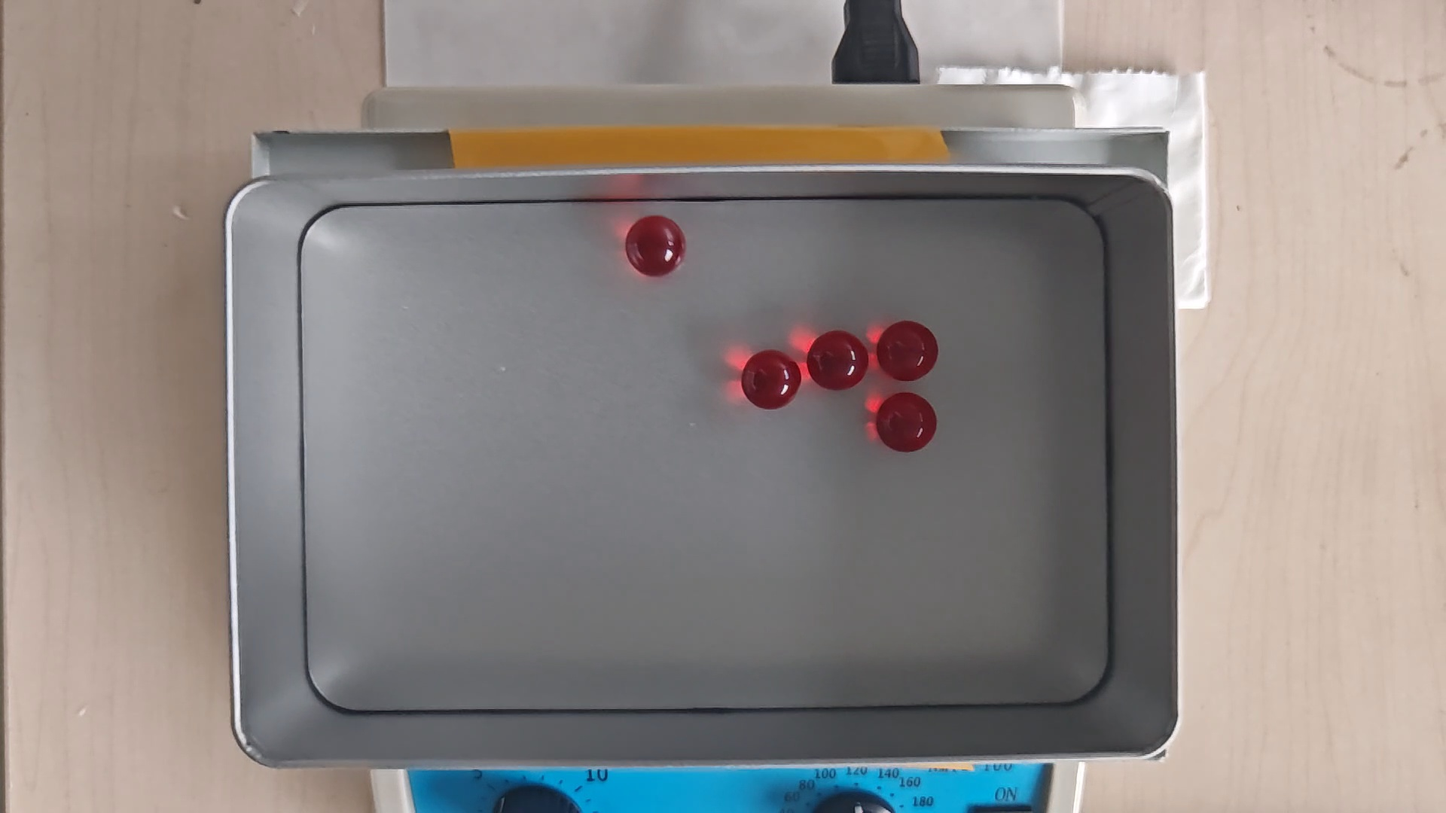ball: (878, 391, 938, 455), (739, 349, 801, 410), (807, 330, 867, 392), (878, 321, 938, 383), (627, 215, 685, 279)
container: (296, 195, 1109, 712)
